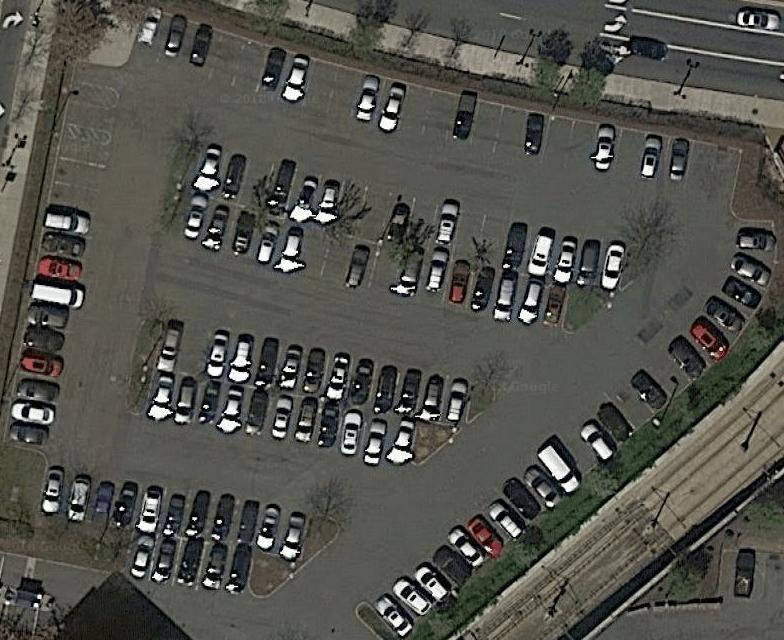parkingspot: (364, 215, 778, 639), (127, 4, 744, 194), (188, 143, 631, 294), (167, 183, 572, 334), (150, 316, 477, 429), (2, 133, 112, 456), (142, 364, 420, 469), (36, 463, 314, 563), (122, 527, 257, 603), (716, 545, 784, 607), (63, 98, 118, 135), (71, 60, 123, 91)
